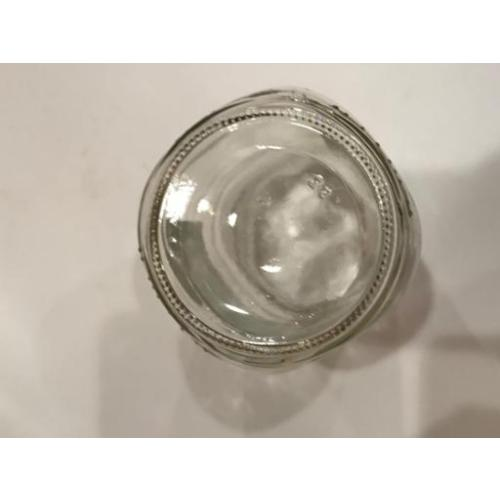glass: (136, 94, 419, 369)
